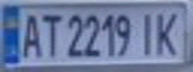1: (100, 10, 118, 57)
2: (63, 9, 84, 60), (81, 10, 103, 58)
9: (115, 10, 136, 57)
A: (18, 9, 45, 60)
I: (136, 8, 160, 57)
K: (151, 7, 187, 57)
T: (36, 10, 63, 58)
